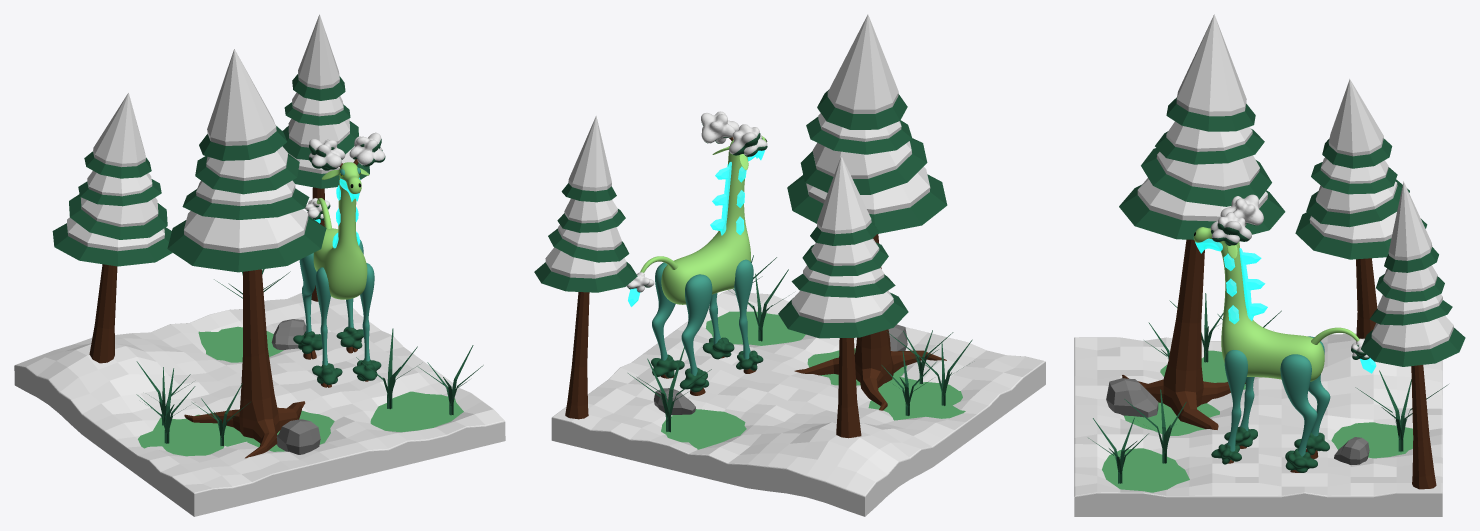
The picture shows the model from 3 angles, left to right: view 1: azimuth 30°, elevation 25°; view 2: azimuth 150°, elevation 25°; view 3: azimuth 270°, elevation 25°; orthographic projection. The views are drawn at different scales.
Visible parts, largest first — view 1: Plane, Cylinder, Cube.002, Plane.001, Cube, Cube.001, Plane.005; view 2: Cylinder, Plane, Cube.002, Plane.001, Plane.006, Cube.001; view 3: Cylinder, Plane, Cube.002, Plane.001, Cube, Cube.001, Plane.006, Plane.005, Plane.007.
Boxes of the visible parts, box(x1,y1,x2,y2) form: Plane: box(14, 293, 505, 516); Cylinder: box(52, 14, 369, 458); Cube.002: box(293, 132, 385, 387); Plane.001: box(138, 326, 463, 456); Cube: box(276, 419, 320, 454); Cube.001: box(271, 319, 306, 349); Plane.005: box(356, 328, 419, 409); Cylinder: box(534, 14, 947, 438); Plane: box(551, 289, 1045, 516); Cube.002: box(626, 111, 767, 395); Plane.001: box(661, 311, 965, 449); Plane.006: box(628, 347, 711, 432); Cube.001: box(654, 388, 695, 414); Cylinder: box(1119, 14, 1465, 489); Plane: box(1074, 333, 1442, 516); Cube.002: box(1193, 194, 1376, 472); Plane.001: box(1102, 350, 1413, 492); Cube: box(1106, 378, 1158, 417); Cube.001: box(1334, 437, 1369, 464); Plane.006: box(1355, 370, 1448, 451); Plane.005: box(1124, 389, 1186, 463); Plane.007: box(1088, 417, 1148, 483).
Size of the model in its own units: 1078 by 1203 by 1063.
